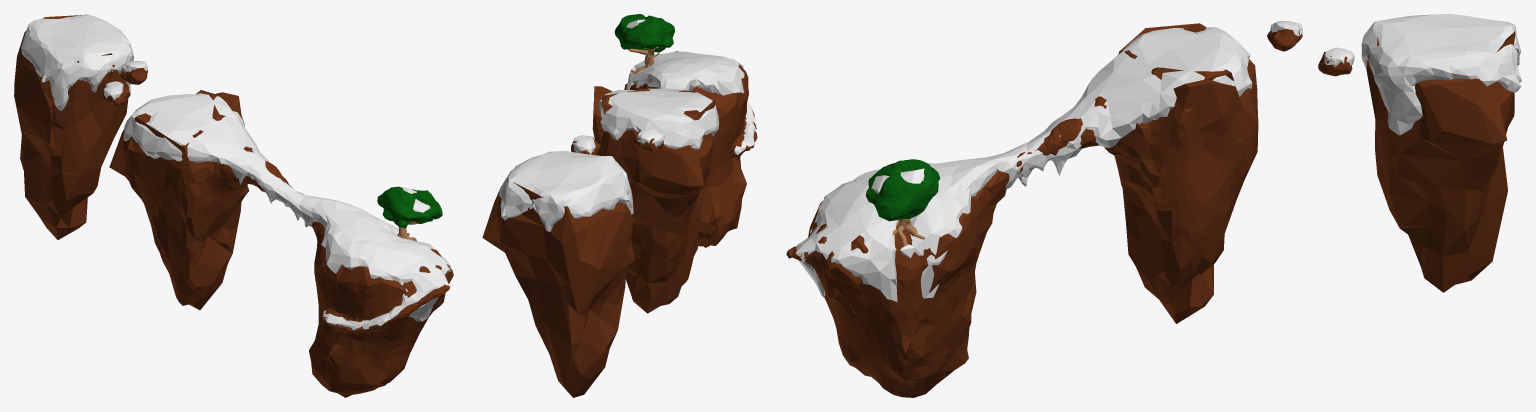
File: Tre_Isola5.fbx
3 views of the same model, side by side, from view 1: azimuth 30°, elevation 25°; view 2: azimuth 150°, elevation 25°; view 3: azimuth 270°, elevation 25° (orthographic). The views are drawn at different scales.
Visible parts, largest first — view 1: Plane.028, Plane.026, Plane.002, Plane.001, Mball.000; view 2: Plane.028, Plane.002, Plane.026, Plane.001, Mball.000, Sphere.147, Sphere.146, NurbsPath.000; view 3: Plane.028, Plane.026, Plane.002, Plane.001, Mball.000.
Boxes of the visible parts, <box> form: Plane.028: <box>109,90,453,397</box>; Plane.026: <box>123,93,451,330</box>; Plane.002: <box>14,15,129,239</box>; Plane.001: <box>21,14,134,110</box>; Mball.000: <box>377,186,442,228</box>; Plane.028: <box>592,51,757,313</box>; Plane.002: <box>482,152,634,397</box>; Plane.026: <box>599,51,755,154</box>; Plane.001: <box>499,151,633,231</box>; Mball.000: <box>614,14,674,52</box>; Sphere.147: <box>636,129,664,146</box>; Sphere.146: <box>572,135,595,154</box>; NurbsPath.000: <box>628,46,659,76</box>; Plane.028: <box>786,23,1258,397</box>; Plane.026: <box>795,27,1252,301</box>; Plane.002: <box>1366,31,1515,292</box>; Plane.001: <box>1361,14,1521,135</box>; Mball.000: <box>866,159,940,221</box>.
Bounding box in the file's own units: 106 × 116 × 246.
